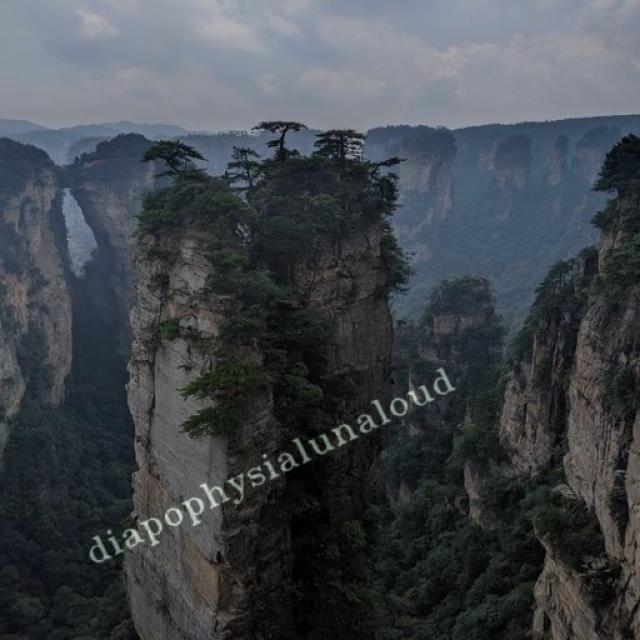watermark: (82, 360, 456, 571)
